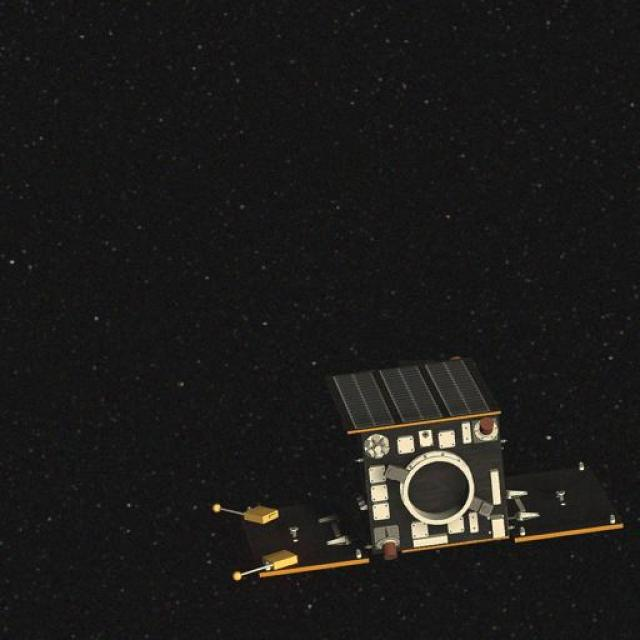proba_2: (192, 367, 640, 573)
